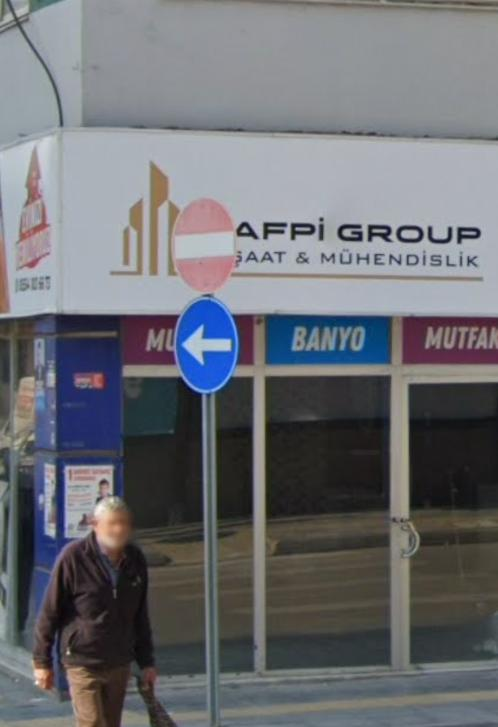turnleft: (176, 300, 235, 382)
